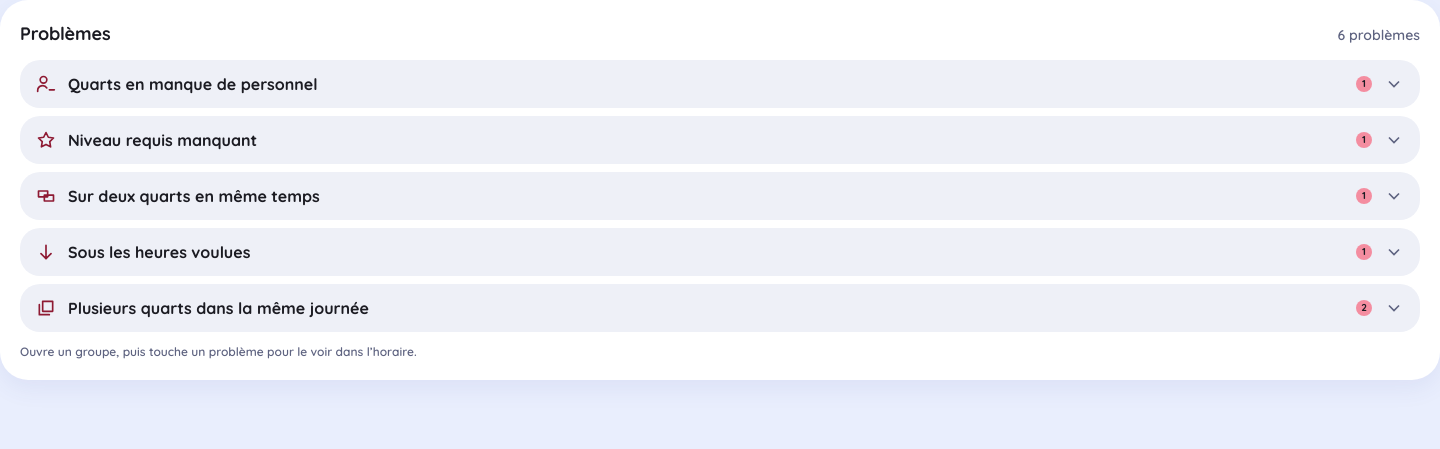
Scenario: IssuesPanel › speaks French, numbers included
What coordinates should you click on to do the following:
click the text "Sous les heures voulues"
I would click on:
 (159, 252)
Its box is [68, 242, 250, 262].
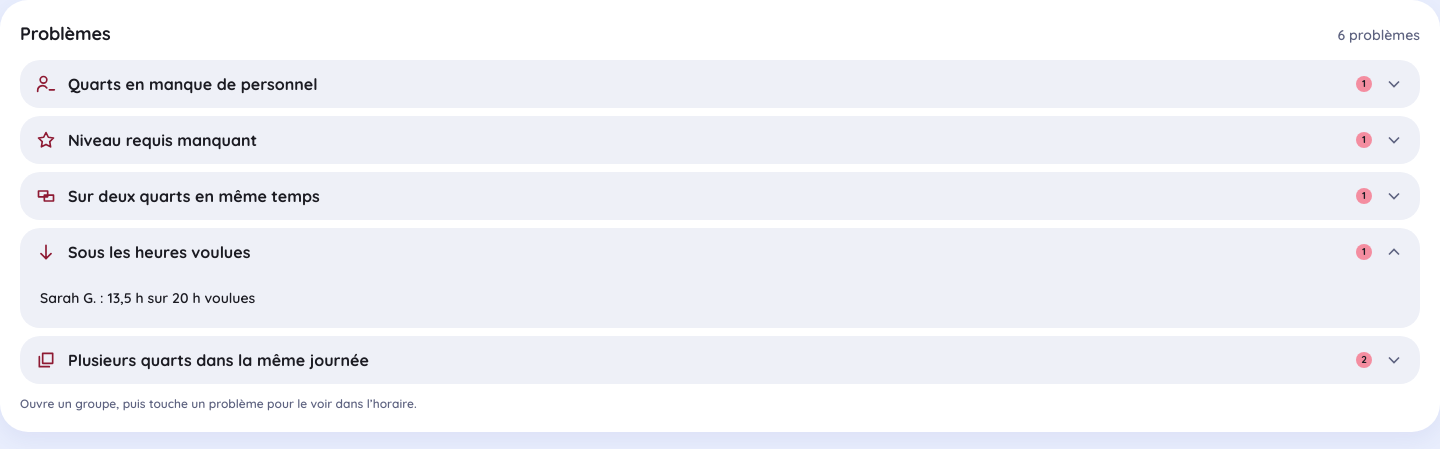
Result: the button "Sarah G. : 13,5 h sur 20 h voulues" is shown at [28, 276, 1412, 320]
